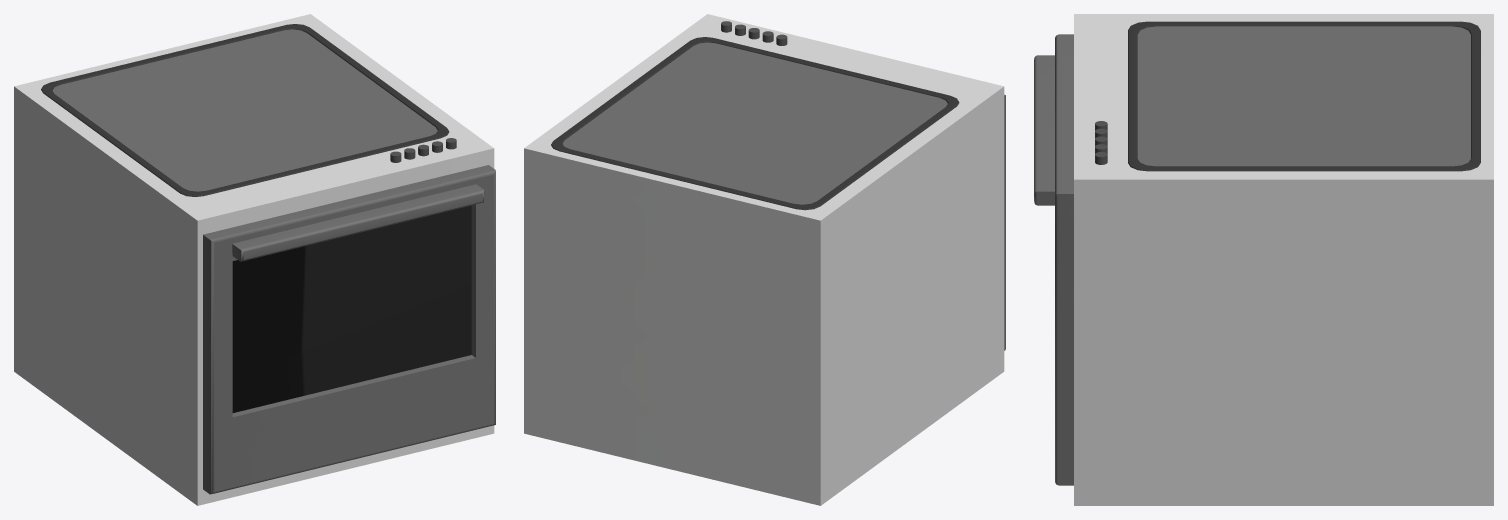
File: geo_oven.fbx
3 views of the same model, side by side, from view 1: azimuth 30°, elevation 25°; view 2: azimuth 150°, elevation 25°; view 3: azimuth 270°, elevation 25° (orthographic). The views are drawn at different scales.
Visible parts, largest first — view 1: geo_oven; view 2: geo_oven; view 3: geo_oven.
Boxes of the visible parts, left/top/right/bottom form: geo_oven: left=14, top=14, right=495, bottom=505; geo_oven: left=524, top=14, right=1005, bottom=505; geo_oven: left=1034, top=14, right=1493, bottom=505.
Bounding box in the file's own units: 0.9333 × 0.878 × 1.09.
Materials: 1 (1 with a texture image).
